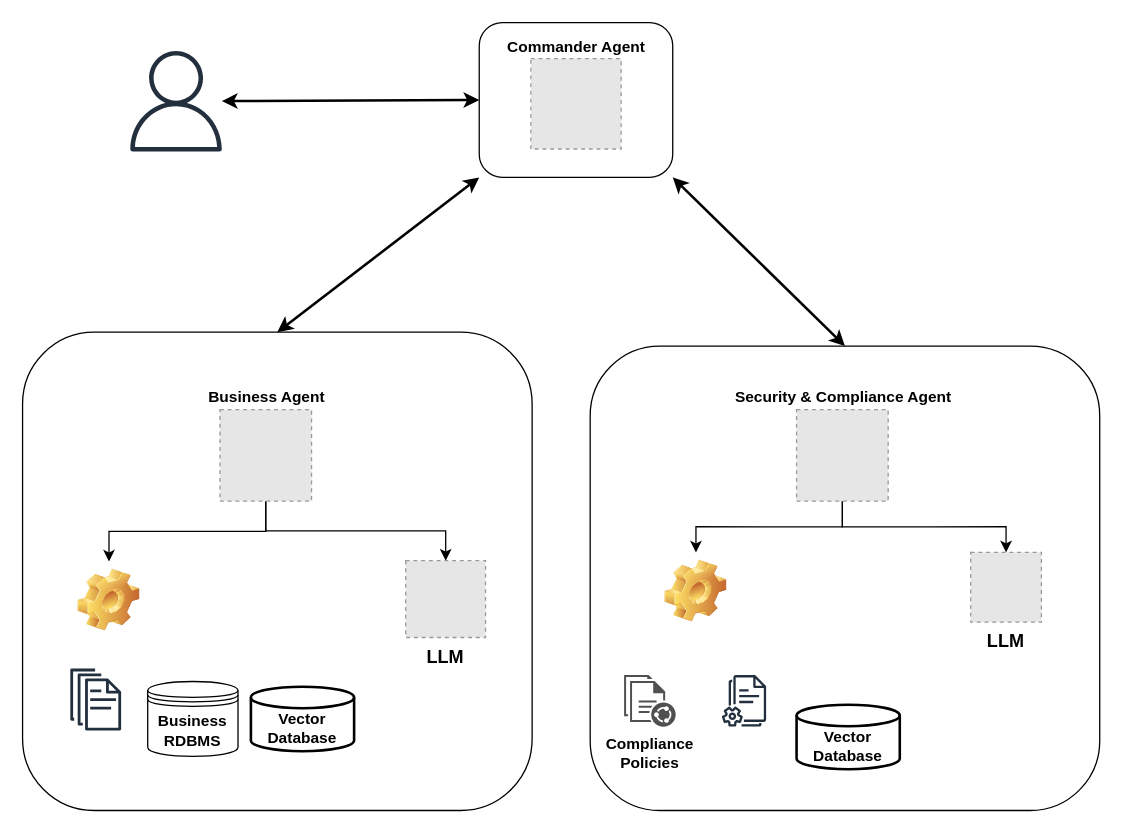
This 1122x833 diagram has some shape labels left out. Grey dashed boxes stand in for pictures. The box of each missing label's shape, as (x1, y1, x2, y2) in pixels:
Business Documents: (70, 668, 120, 730)
Business RAG: (70, 561, 147, 638)
Security Policies: (721, 674, 765, 726)
Security RAG: (657, 552, 734, 629)
User: (125, 50, 226, 151)
